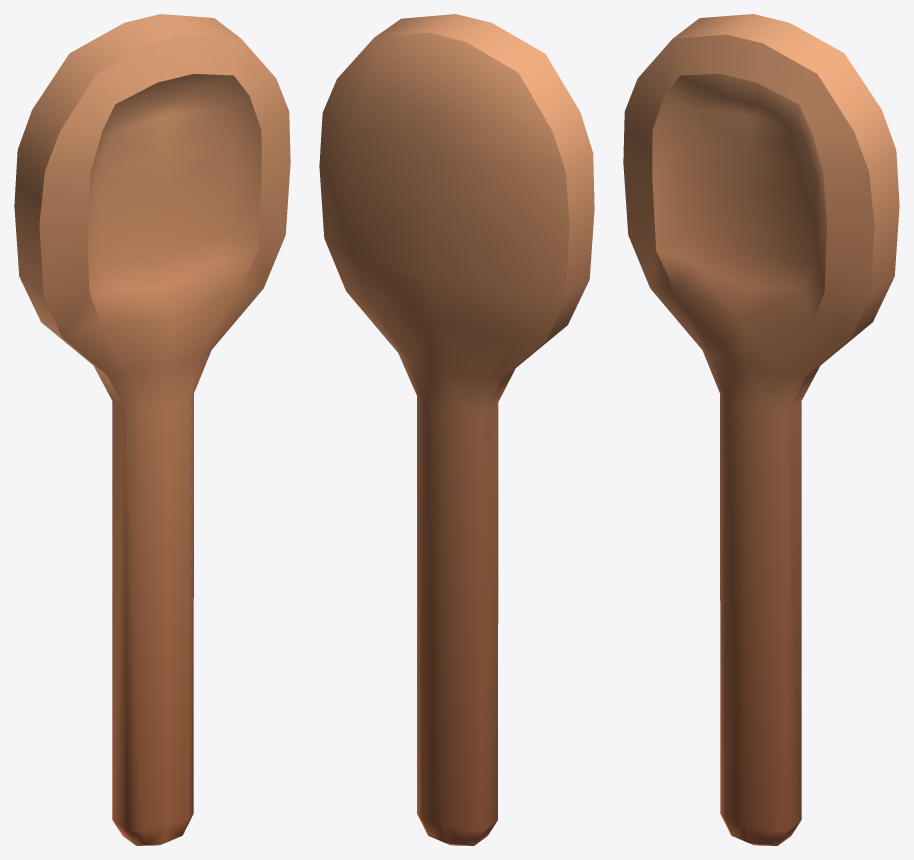
Rendered from Spoon.glb.
The picture shows the model from 3 angles, left to right: view 1: azimuth 30°, elevation 25°; view 2: azimuth 150°, elevation 25°; view 3: azimuth 330°, elevation 25°; orthographic projection.
Parts seen in each view (by area): view 1: spoon; view 2: spoon; view 3: spoon.
Part boxes in pixels (<box>): spoon: <box>14,14,290,845</box>; spoon: <box>319,14,594,845</box>; spoon: <box>623,14,899,845</box>.
Size of the model in its own units: 0.2731 by 0.8458 by 0.0917.
1 material, 1 textured.
